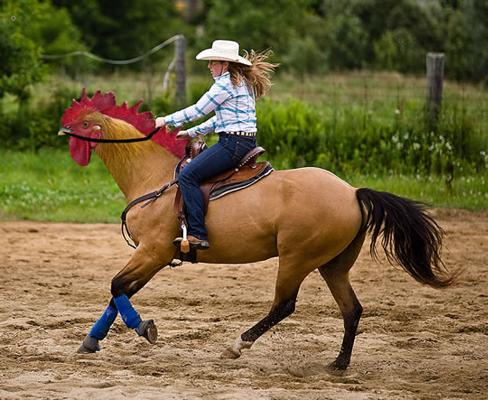person: (152, 40, 262, 253)
